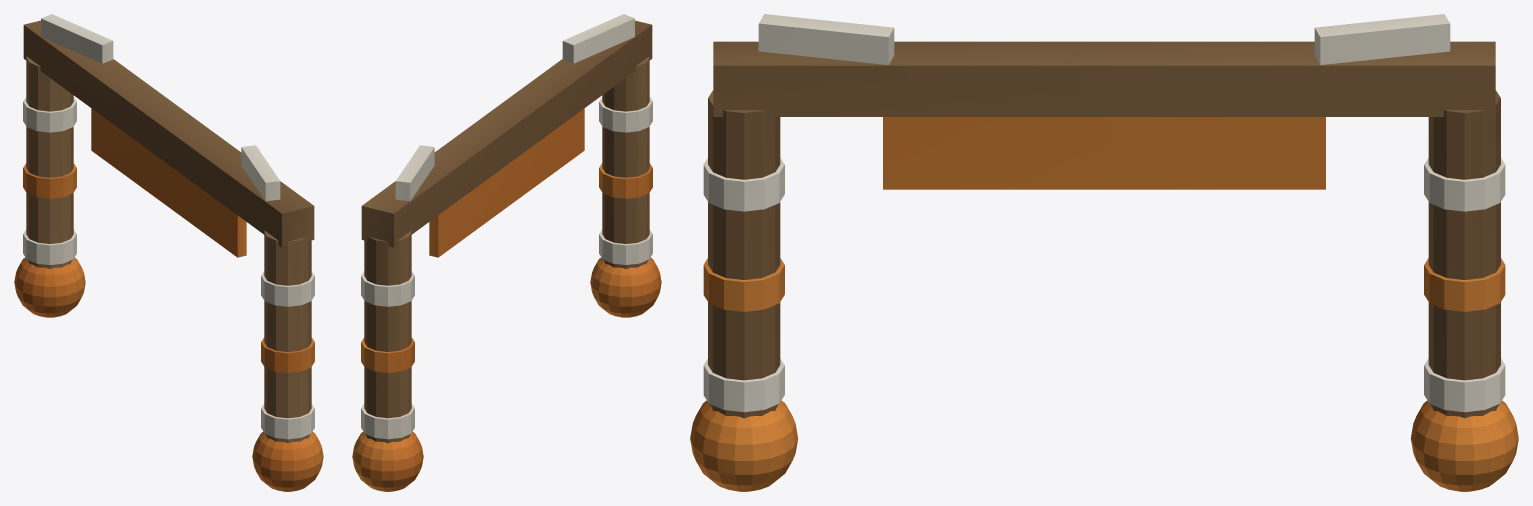
The model's file is arch.glb.
3 views of the same model, side by side, from view 1: azimuth 30°, elevation 25°; view 2: azimuth 150°, elevation 25°; view 3: azimuth 270°, elevation 25° (orthographic). The views are drawn at different scales.
Visible parts, largest first — view 1: Cube.015, Cube.016, Cylinder.008, Cylinder.012, Sphere.001, Sphere, Cube.018, Cube.017, Cylinder.011, Cylinder.015, Cylinder.014, Cylinder.009 (+2 smaller); view 2: Cube.015, Cube.016, Cylinder.012, Cylinder.008, Sphere, Sphere.001, Cube.017, Cube.018, Cylinder.015, Cylinder.011, Cylinder.010, Cylinder.013 (+2 smaller); view 3: Cube.015, Cube.016, Cylinder.008, Cylinder.012, Sphere, Sphere.001, Cube.017, Cube.018, Cylinder.011, Cylinder.015, Cylinder.010, Cylinder.014 (+2 smaller).
Part boxes in pixels (bbox=[...]): Cube.015: bbox=[23, 20, 314, 247]; Cube.016: bbox=[91, 108, 246, 257]; Cylinder.008: bbox=[264, 231, 311, 443]; Cylinder.012: bbox=[26, 57, 73, 268]; Sphere.001: bbox=[14, 257, 85, 317]; Sphere: bbox=[252, 431, 323, 491]; Cube.018: bbox=[41, 14, 113, 63]; Cube.017: bbox=[241, 145, 280, 201]; Cylinder.011: bbox=[261, 271, 314, 306]; Cylinder.015: bbox=[23, 97, 76, 132]; Cylinder.014: bbox=[23, 163, 76, 198]; Cylinder.009: bbox=[261, 403, 314, 439]; Cube.015: bbox=[361, 20, 652, 247]; Cube.016: bbox=[429, 108, 584, 257]; Cylinder.012: bbox=[364, 231, 411, 443]; Cylinder.008: bbox=[602, 57, 649, 268]; Sphere: bbox=[590, 257, 661, 317]; Sphere.001: bbox=[352, 431, 423, 491]; Cube.017: bbox=[562, 14, 634, 63]; Cube.018: bbox=[395, 145, 434, 201]; Cylinder.015: bbox=[361, 271, 414, 306]; Cylinder.011: bbox=[599, 97, 652, 132]; Cylinder.010: bbox=[599, 163, 652, 198]; Cylinder.013: bbox=[361, 403, 414, 439]; Cube.015: bbox=[713, 41, 1495, 116]; Cube.016: bbox=[883, 117, 1325, 189]; Cylinder.008: bbox=[708, 90, 780, 418]; Cylinder.012: bbox=[1428, 90, 1500, 418]; Sphere: bbox=[690, 400, 798, 491]; Sphere.001: bbox=[1410, 400, 1518, 491]; Cube.017: bbox=[758, 14, 894, 64]; Cube.018: bbox=[1314, 14, 1450, 64]; Cylinder.011: bbox=[703, 158, 784, 211]; Cylinder.015: bbox=[1424, 158, 1505, 211]; Cylinder.010: bbox=[703, 258, 784, 311]; Cylinder.014: bbox=[1424, 258, 1505, 311].
Size of the model in its own units: 2.07 by 9.9 by 16.1.
